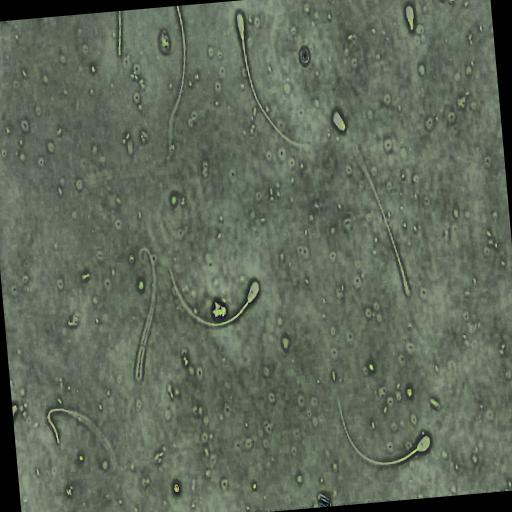dirt-particles: (158, 28, 172, 50), (173, 480, 181, 496)
loose-head: (330, 106, 347, 134), (404, 2, 415, 33)
loose-tail: (352, 138, 413, 299), (46, 405, 115, 462), (167, 6, 189, 156)
normal: (229, 11, 317, 159), (332, 392, 440, 478), (164, 256, 265, 336)
